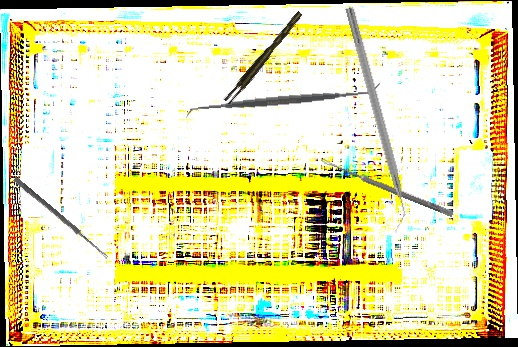Chopper: (332, 6, 414, 234)
Spatula Surgical: (184, 80, 383, 120)
Surgical Spoon: (320, 157, 455, 218), (12, 176, 110, 260)
Tissue Forceps: (220, 10, 308, 106)
